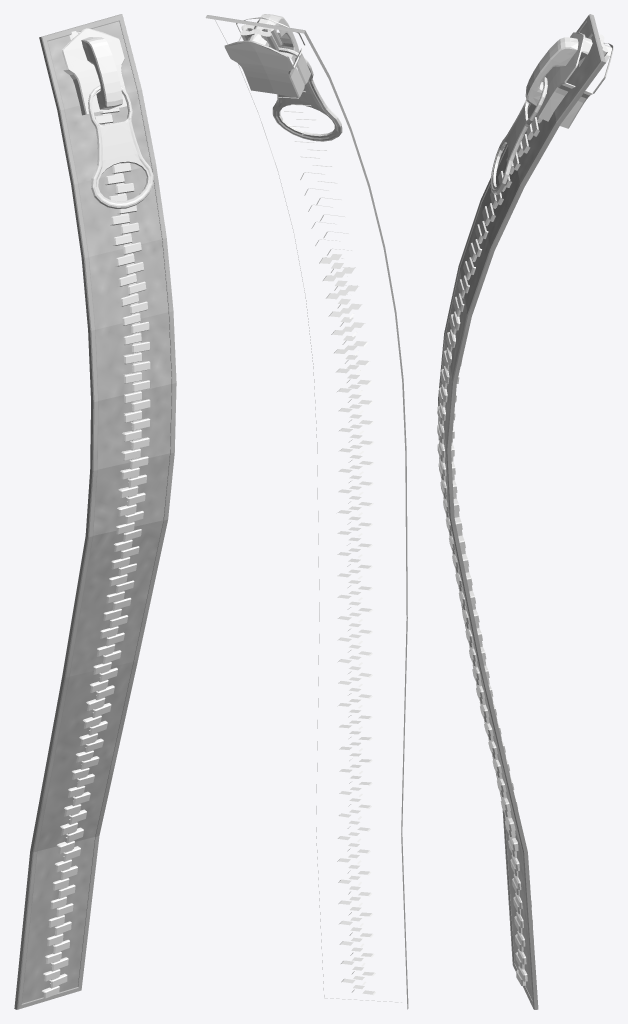
File: Pocket_Left_V2.glb
3 renders of one model, left to right at view 1: azimuth 30°, elevation 25°; view 2: azimuth 150°, elevation 25°; view 3: azimuth 270°, elevation 25°, orthographic. The views are drawn at different scales.
Visible parts, largest first — view 1: Pocket_Left_V21, Ziplock_Left1, Rope1; view 2: Ziplock_Left1, Rope1; view 3: Ziplock_Left1, Rope1, Pocket_Left_V21.
Boxes of the visible parts, x1,y1,x2,y2 form: Pocket_Left_V21: (22, 21, 171, 1003); Ziplock_Left1: (42, 28, 153, 998); Rope1: (14, 14, 176, 1009); Ziplock_Left1: (224, 14, 375, 995); Rope1: (205, 15, 408, 1009); Ziplock_Left1: (437, 32, 613, 986); Rope1: (438, 14, 605, 1009); Pocket_Left_V21: (439, 22, 597, 999).
Bounding box in the file's own units: 0.038 × 0.2293 × 0.0371.
Materials: 3 (3 with a texture image).
